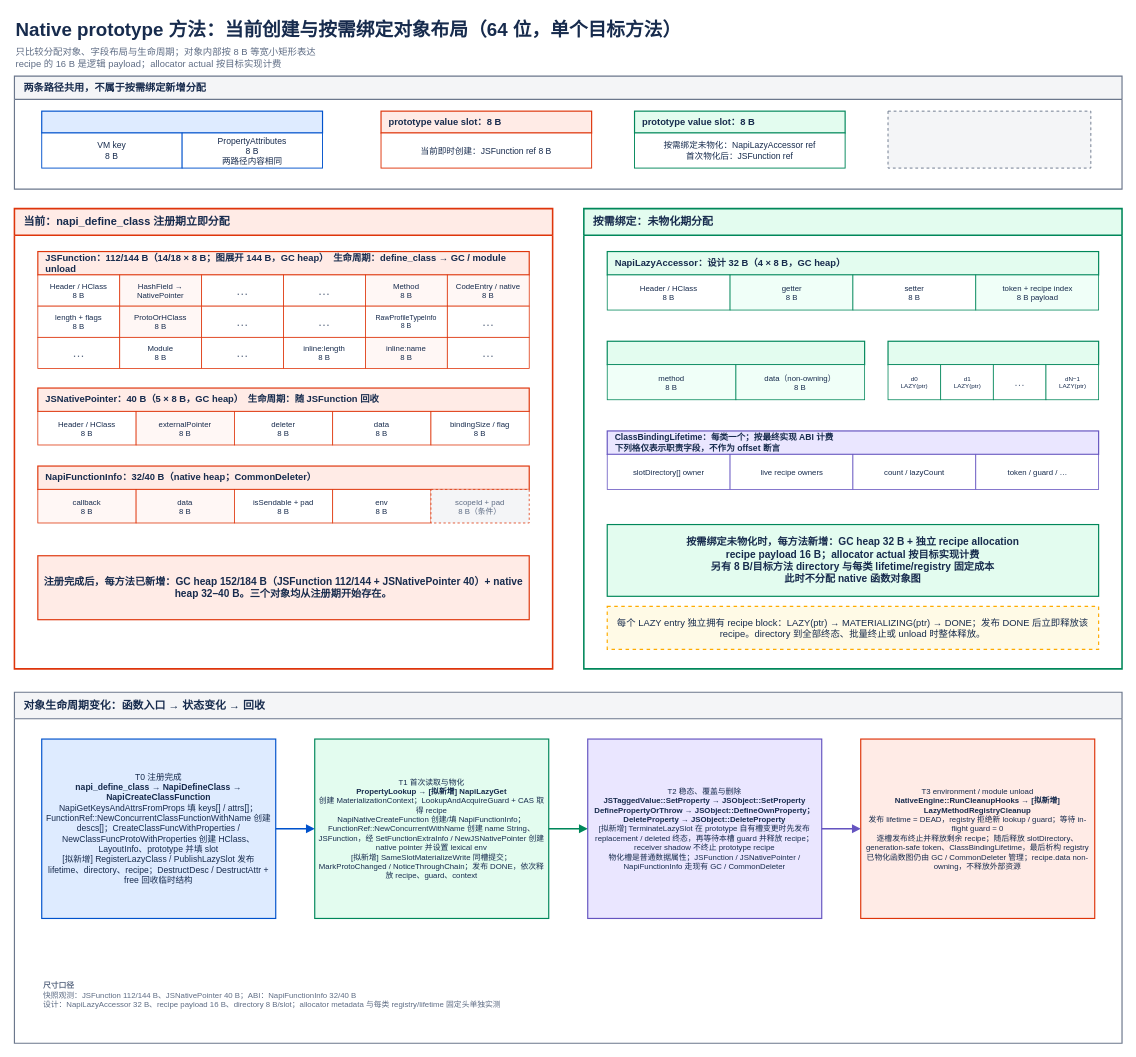
Some shapes in this 1136 by 1057 pixel diagram are drawn without their labels. Here are the shapes that lost their labels. From the top down, the centre of each, then its label:
(x=182, y=121): LayoutInfo 单个属性项：16 B logical（2 × 8 B）
(x=989, y=139): 注册期 HClass / LayoutInfo 填充相同：data、W/E/C、offset、TAGGED。仅 prototype value slot 不同。
(x=735, y=352): NativeLazyMethodRecipe：16 B payload（2 × 8 B；每槽独立 allocator block）
(x=993, y=352): slotDirectory[N]：总计 8N B（每 entry 8 B，tagged atomic，native heap）
